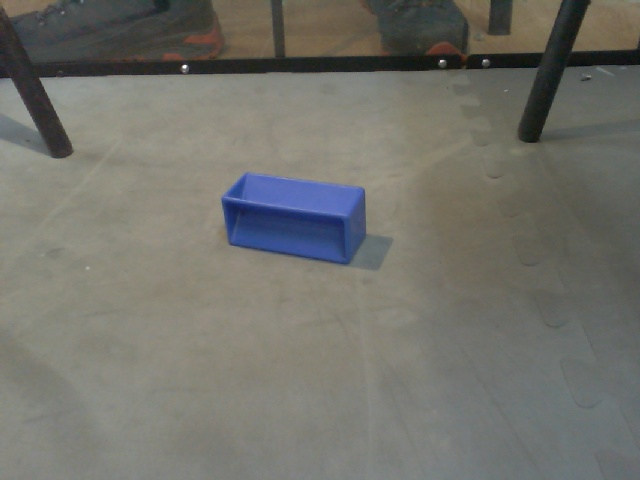BlueSample: (218, 168, 370, 265)
